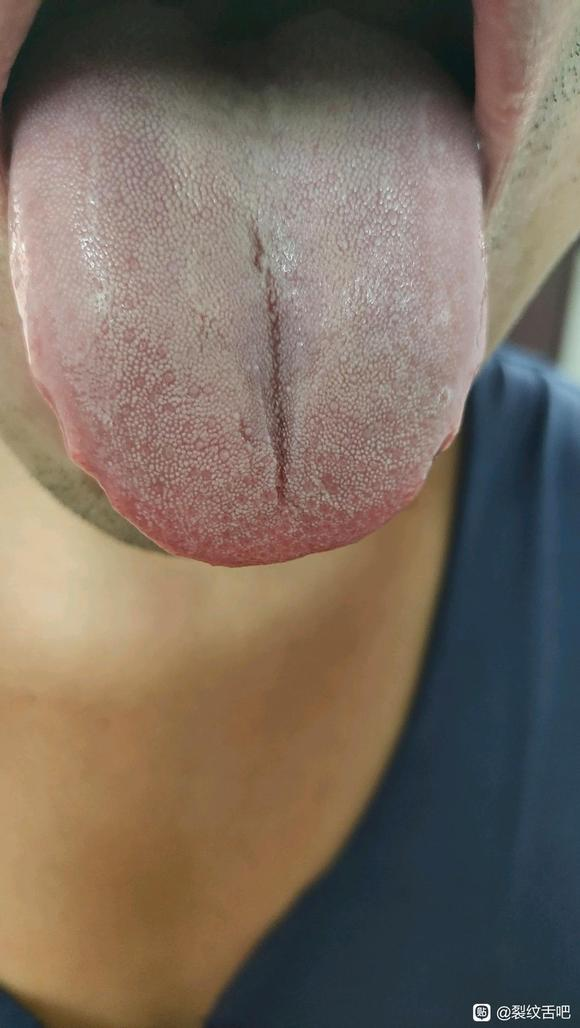baitaishe: (8, 1, 486, 566)
chihenshe: (13, 296, 164, 550)
liewenshe: (243, 222, 293, 507)
shenquao: (121, 1, 321, 61)
